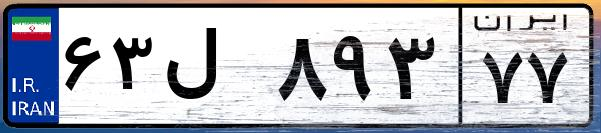3: (385, 28, 445, 110), (110, 28, 158, 98)
6: (57, 26, 110, 100)
7: (475, 38, 525, 113), (525, 38, 570, 115)
8: (270, 28, 330, 110)
9: (330, 28, 385, 110)
ل: (158, 20, 270, 120)
